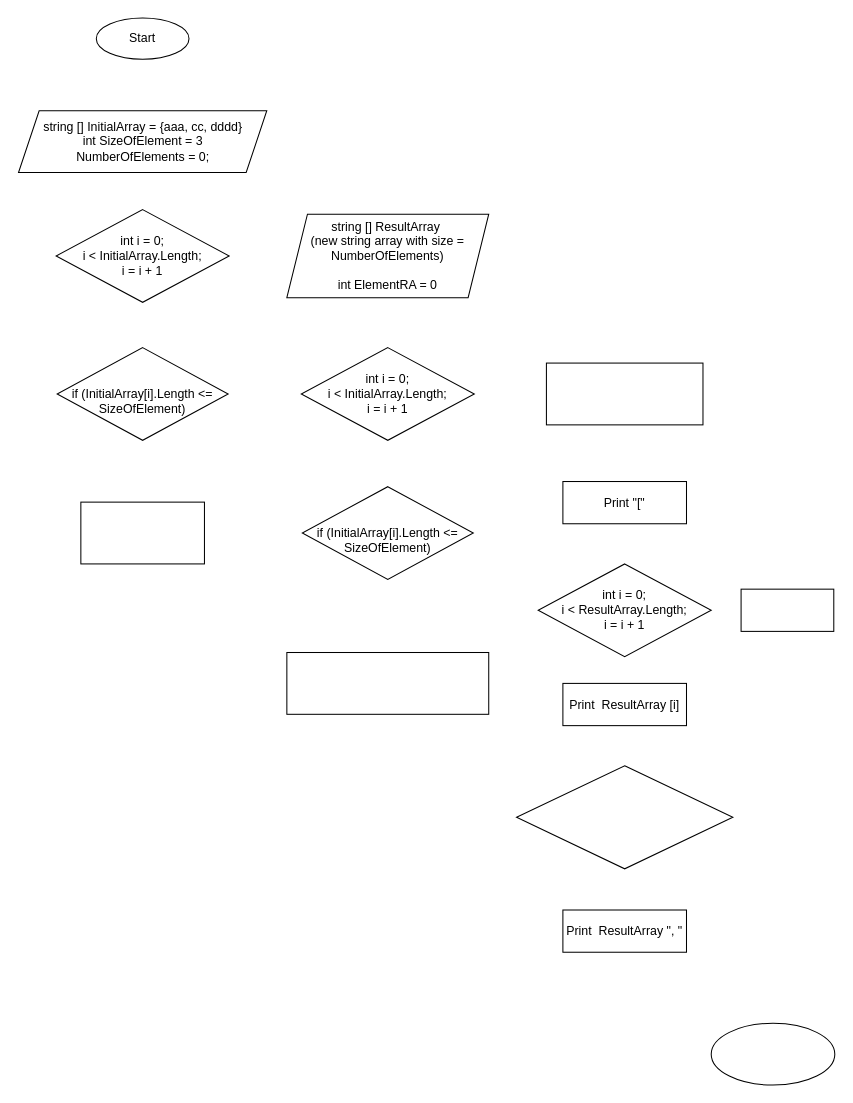
This 853x1103 diagram has some shape labels left out. The shapes that lost their labels are listed below. From the top down, each one's box as (x1, y1, x2, y2) in pixels, then its label:
(545, 362, 703, 425): string [] ResultArray = {aaa, cc}
(80, 501, 204, 564): NumberOfElements = NumberOfElements +1
(740, 588, 834, 631): Print "]"
(286, 651, 489, 714): ResultArray[ElementRA] = InitialArray[i] ElementRA = ElementRA + 1
(516, 765, 733, 869): if (i < ResultArray.Length - 1)
(710, 1022, 835, 1085): end
